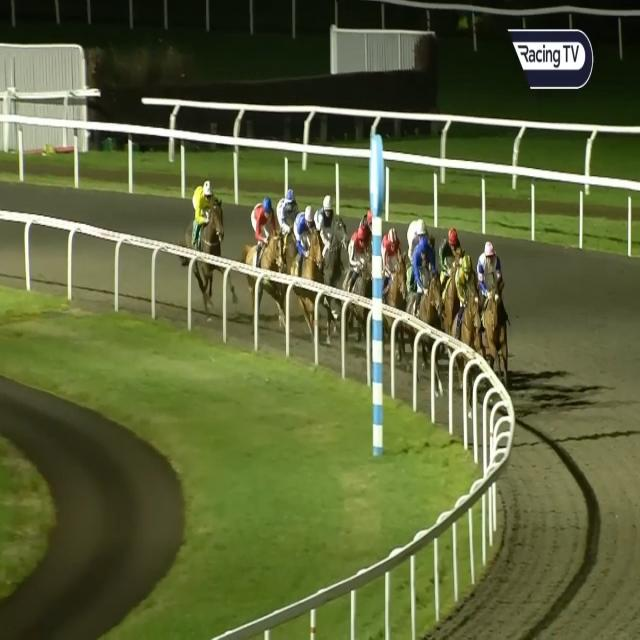horses-racing: (185, 172, 228, 282), (477, 238, 511, 371), (314, 191, 349, 301), (378, 220, 409, 336), (252, 195, 284, 299), (293, 205, 320, 309), (438, 218, 466, 311), (458, 252, 483, 353), (415, 234, 440, 332), (351, 223, 374, 329), (404, 212, 433, 283), (276, 180, 295, 253), (358, 210, 376, 245)
